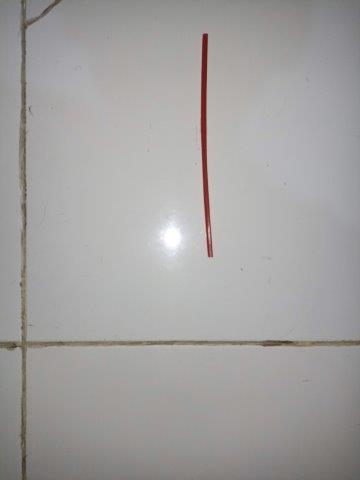sedotan: (200, 33, 213, 257)
